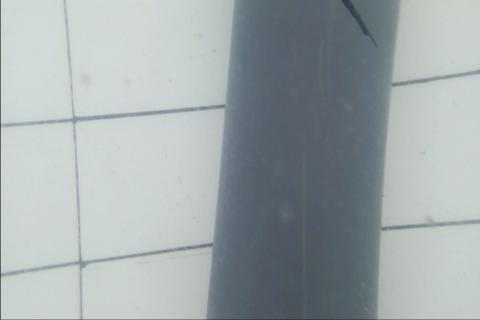keretakan: (339, 0, 380, 52)
